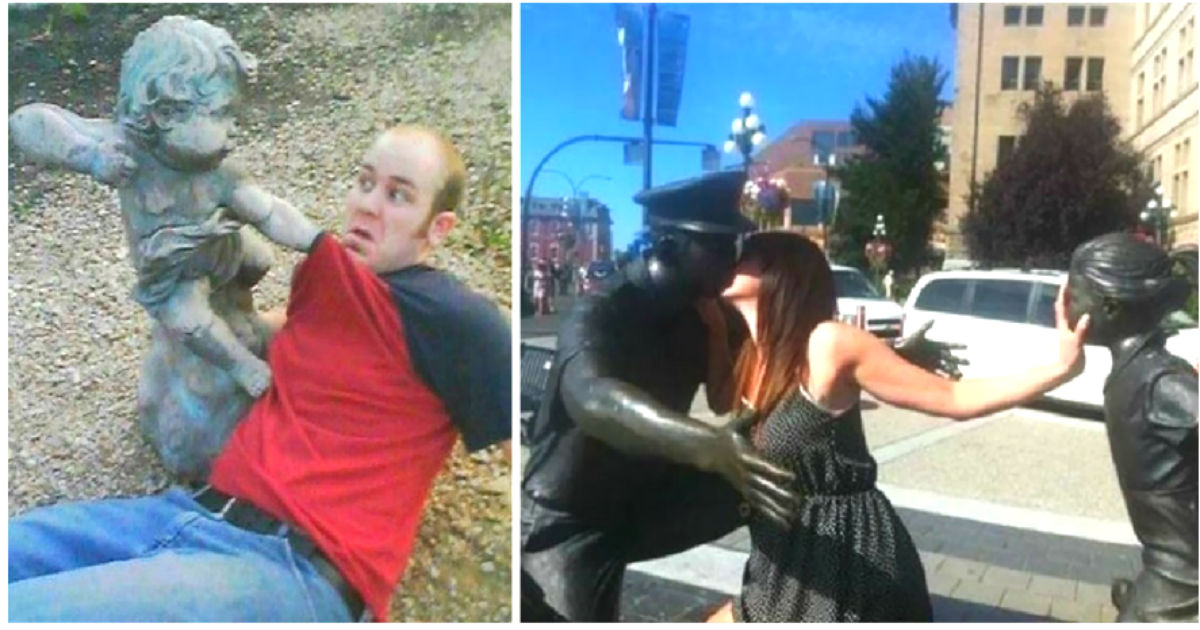person: (278, 123, 507, 544), (709, 256, 975, 572)
